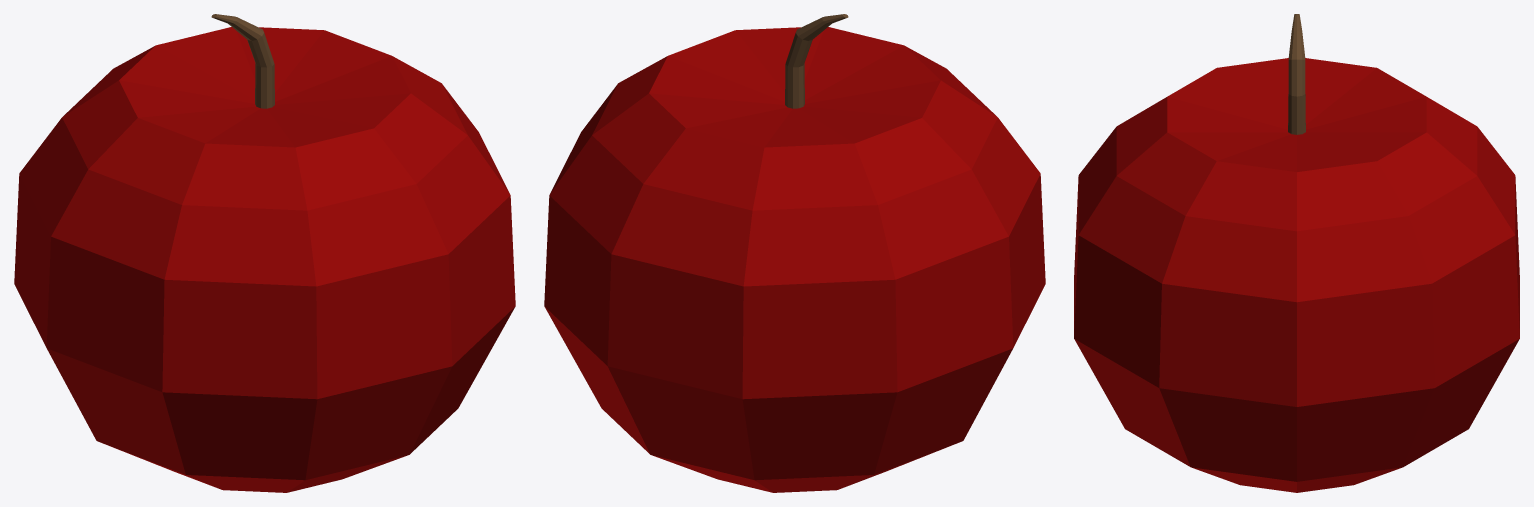
The model's file is apple.fbx.
The picture shows the model from 3 angles, left to right: view 1: azimuth 30°, elevation 25°; view 2: azimuth 150°, elevation 25°; view 3: azimuth 270°, elevation 25°; orthographic projection. The views are drawn at different scales.
Visible parts, largest first — view 1: apple; view 2: apple; view 3: apple.
Boxes of the visible parts, box(x1,y1,x2,y2) form: apple: box(14, 14, 515, 492); apple: box(544, 14, 1045, 492); apple: box(1074, 14, 1519, 492).
Size of the model in its own units: 0.105 by 0.1028 by 0.0999.
